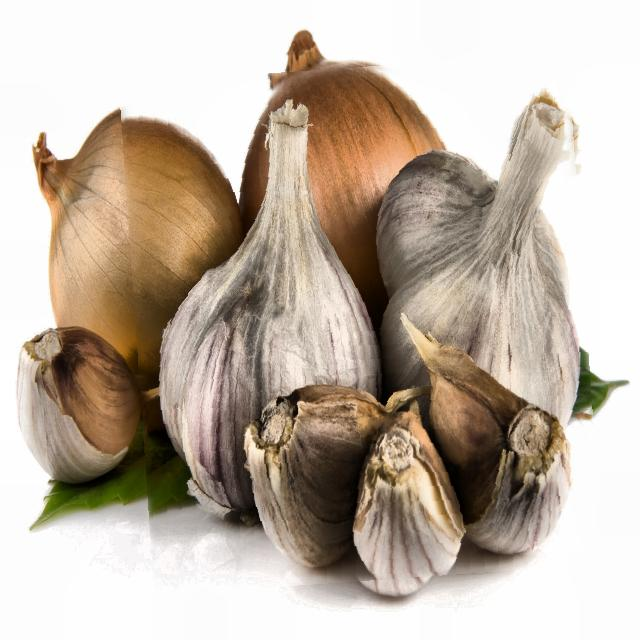spinach: (127, 60, 595, 587)
